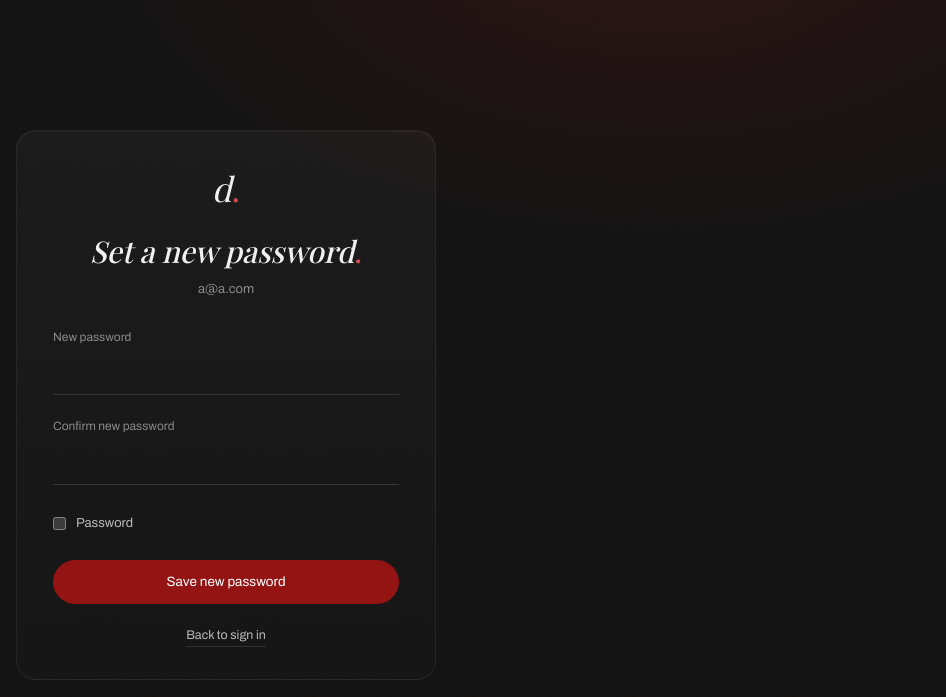
Test: ResetPasswordPage › posts to the staff endpoint with token/email/password on success
In the password field labelled "New password": {"x": 226, "y": 374} [53,354,399,395], type "longenoughpw"
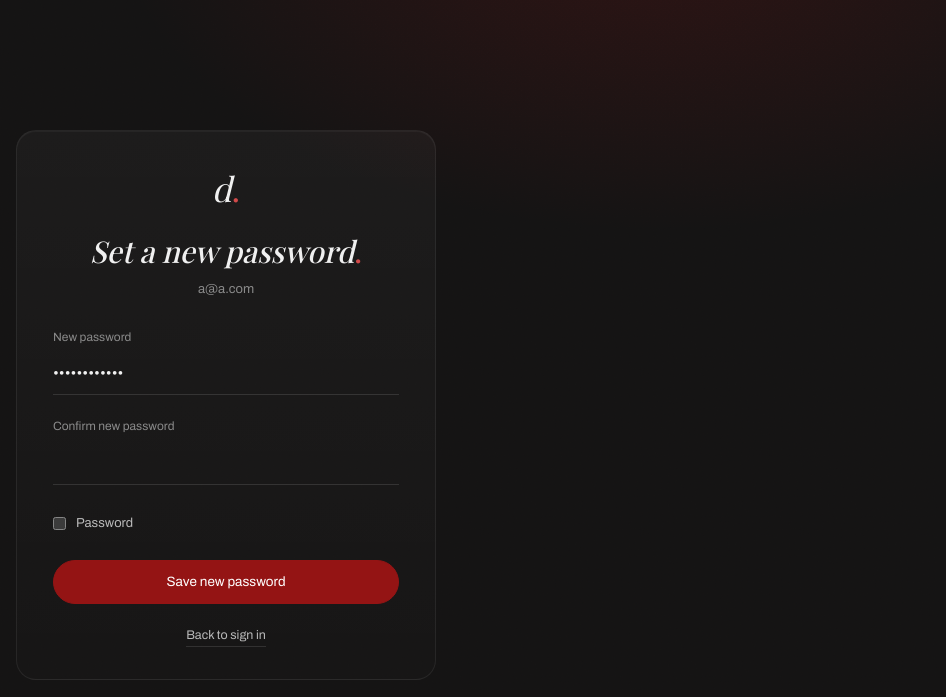
In the password field labelled "Confirm new password": {"x": 226, "y": 464} [53,443,399,485], type "longenoughpw"
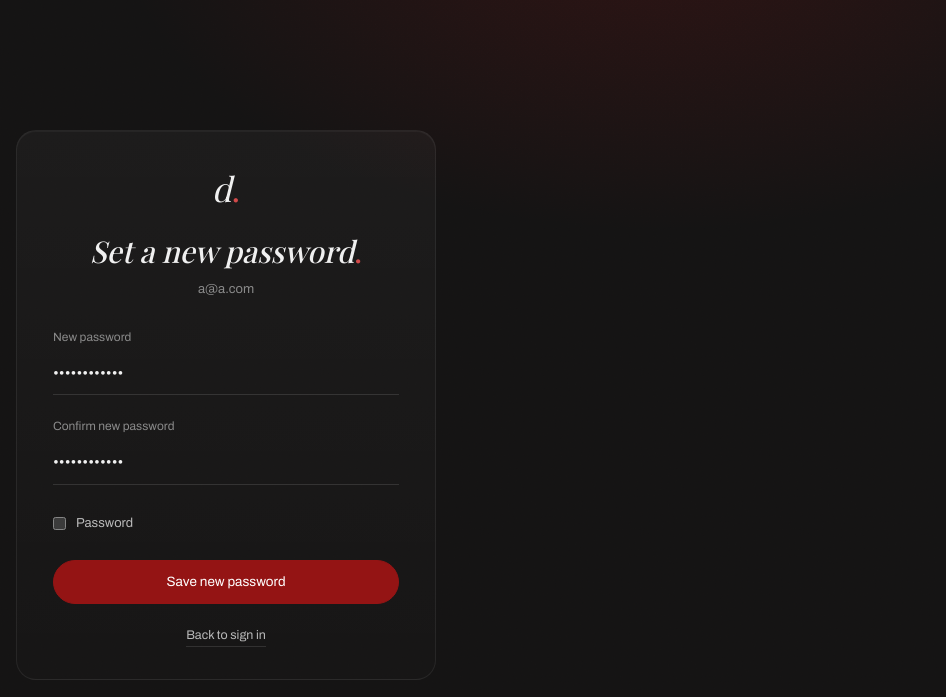
Click the button "Save new password": {"x": 226, "y": 582} [53,560,399,604]
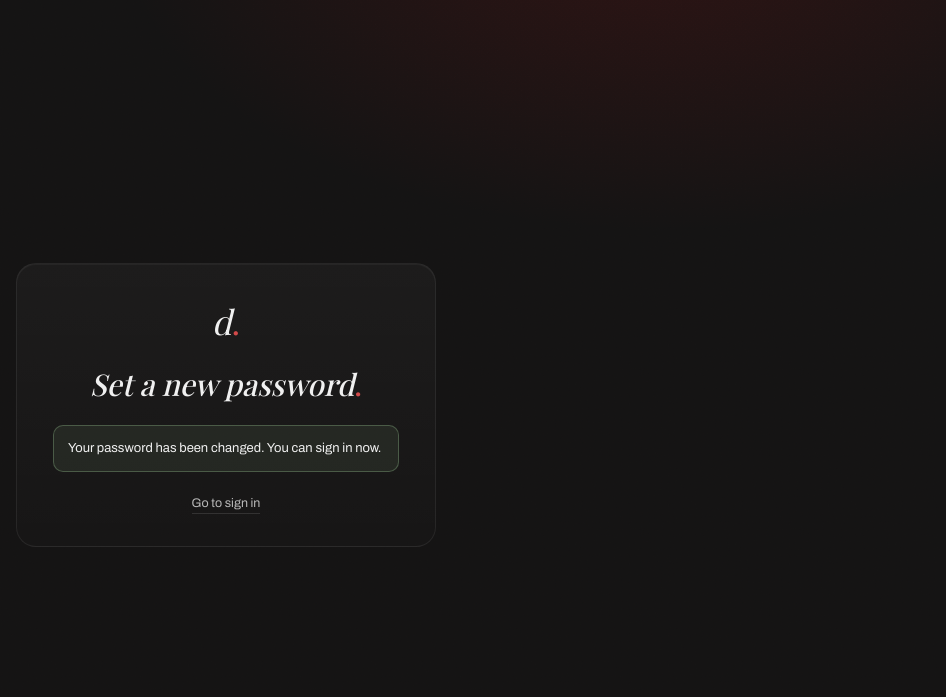
Check: the text "Your password has been changed. You can sign in now." is shown, box [53,425,399,472]
